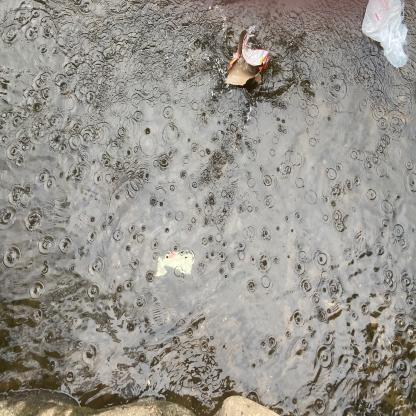trash: (220, 23, 273, 90), (359, 0, 410, 69), (154, 246, 196, 278)
